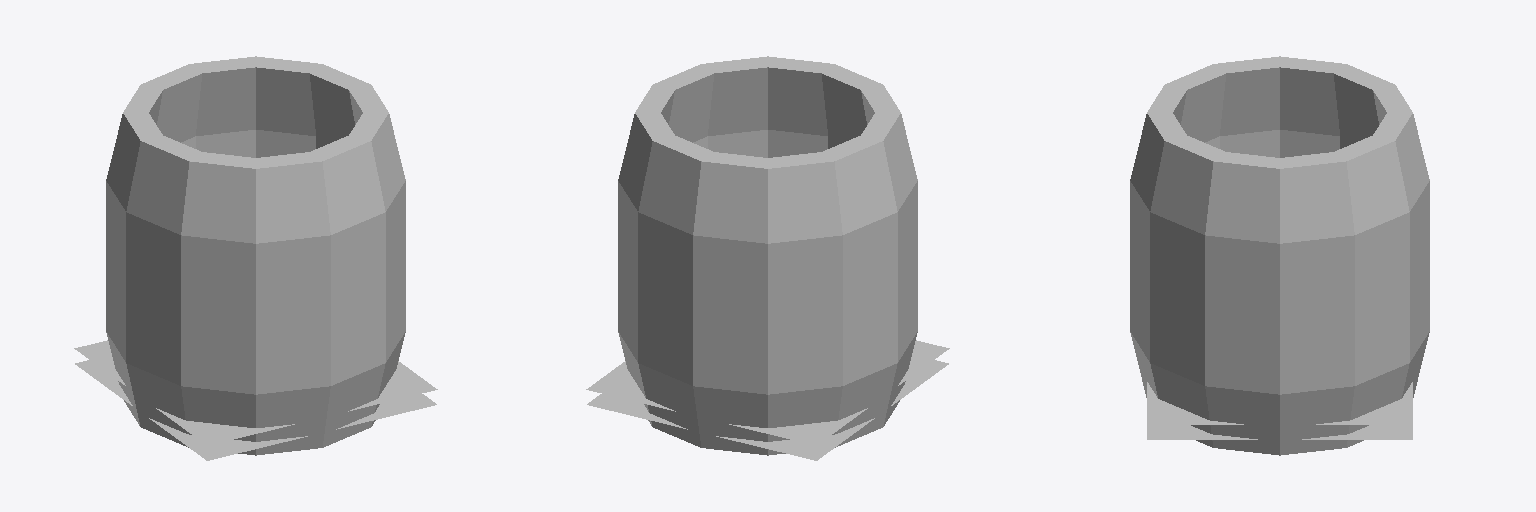
Rendered from empty_round_barrel.obj.
The picture shows the model from 3 angles: view 1: azimuth 30°, elevation 25°; view 2: azimuth 150°, elevation 25°; view 3: azimuth 270°, elevation 25°; orthographic projection.
Visible parts, largest first — view 1: barrel, bottom; view 2: barrel, bottom; view 3: barrel, bottom.
Part boxes in pixels (x1,y1,x2,y2): barrel: (106,56,405,455); bottom: (74,340,437,460); barrel: (618,56,917,455); bottom: (586,340,949,460); barrel: (1130,56,1429,455); bottom: (1147,382,1412,439).
Size of the model in its own units: 1.12 by 1.19 by 1.12.